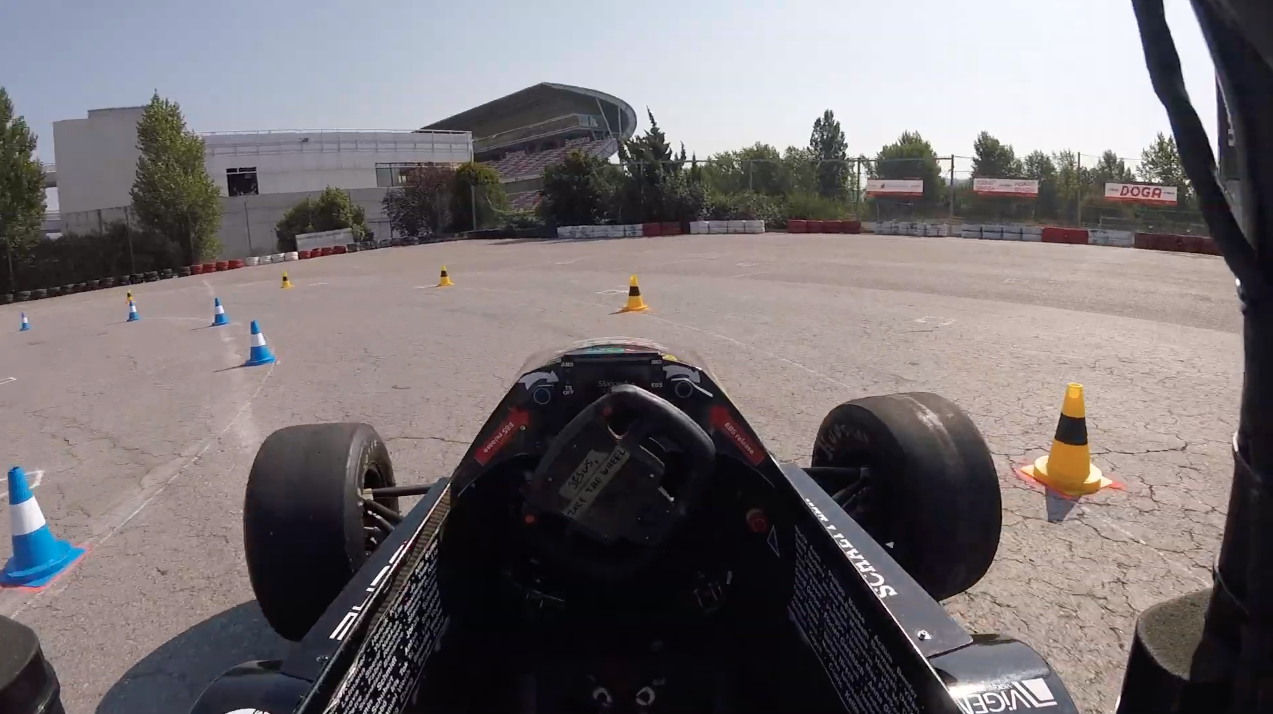lcone: (1, 460, 89, 591), (241, 315, 280, 367), (208, 295, 233, 329)
rcone: (1016, 380, 1116, 498), (619, 273, 652, 314), (436, 264, 455, 289)
